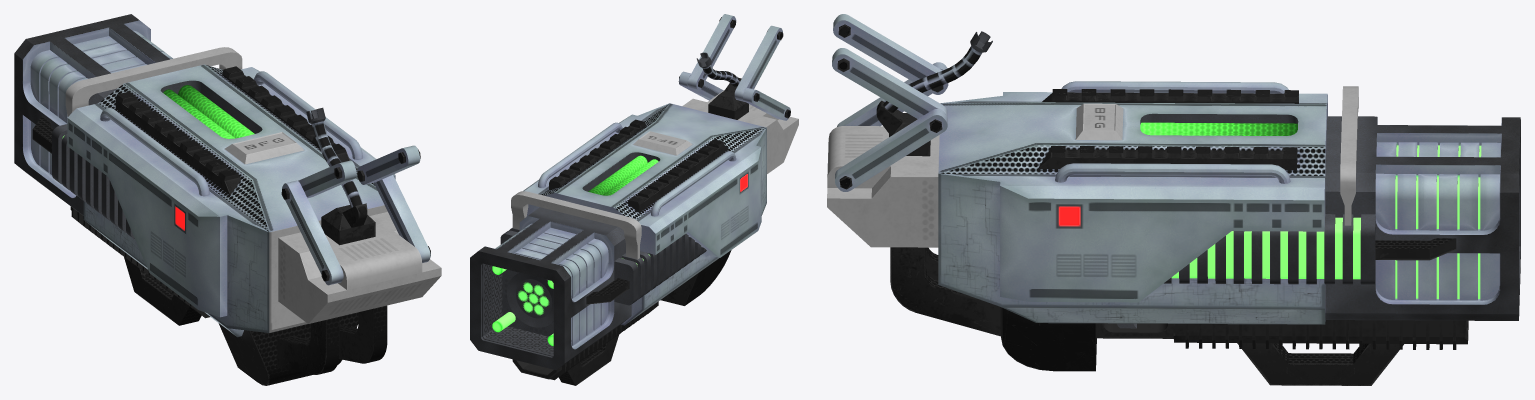
File: bfg2.glb
3 renders of one model, left to right at view 1: azimuth 30°, elevation 25°; view 2: azimuth 150°, elevation 25°; view 3: azimuth 270°, elevation 25°, orthographic. The views are drawn at different scales.
Parts seen in each view (by area): view 1: bfg9000; view 2: bfg9000; view 3: bfg9000.
Part boxes in pixels (left/top/right/bottom): bfg9000: left=14, top=14, right=441, bottom=385; bfg9000: left=470, top=14, right=798, bottom=385; bfg9000: left=827, top=14, right=1520, bottom=385.
Size of what is drawn, in the model's own units: 0.439 by 0.6727 by 1.22.
1 material, 1 textured.
